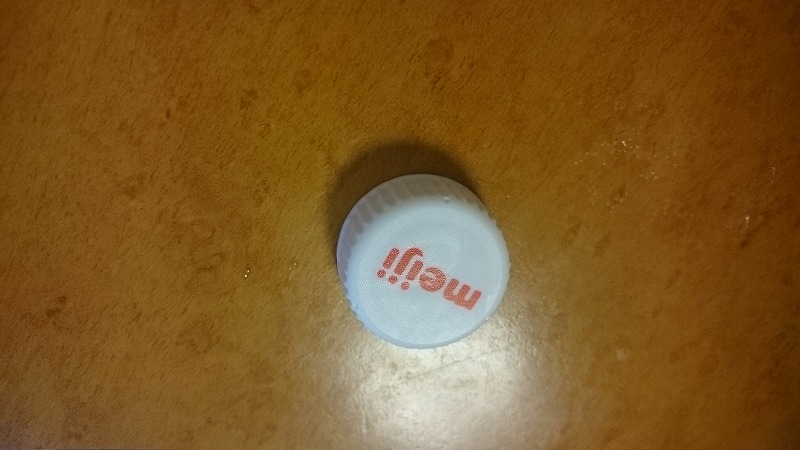B: (326, 163, 518, 355)
